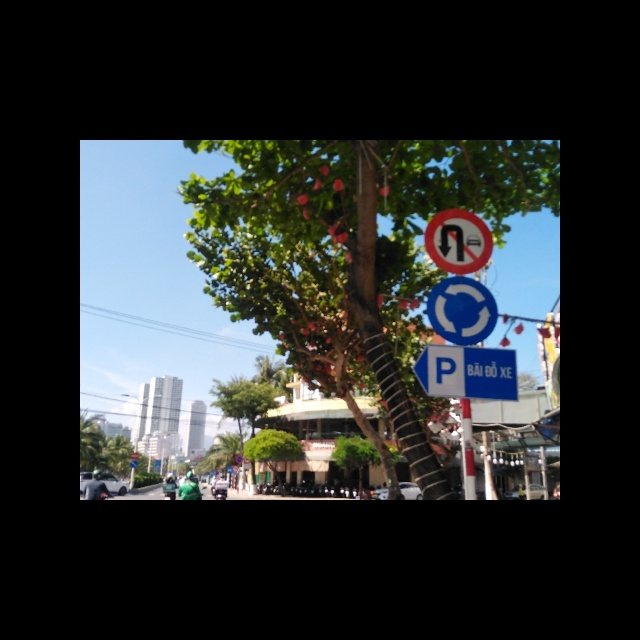Cấm xe ô tô quay đầu: (424, 207, 494, 275)
Nơi giao nhau chạy theo vòng xuyến: (427, 276, 499, 343)
Nơi đỗ xe: (410, 345, 520, 402)
